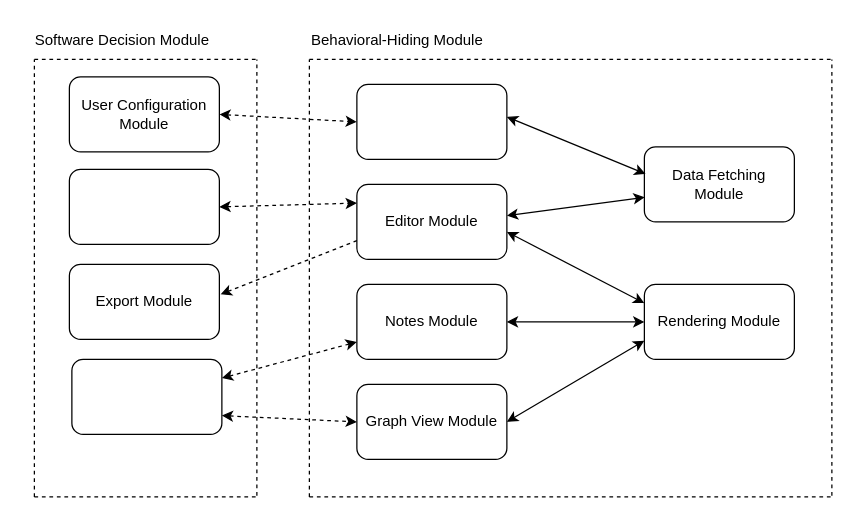
Image size: 858x520. Some labels were removed from this diagram. Here are the shapes that lost their labels. From the top down, the box of each, then its label:
(356, 83, 507, 159): Settings Module
(68, 168, 219, 244): Interface Module
(71, 358, 222, 434): Analytics Module
